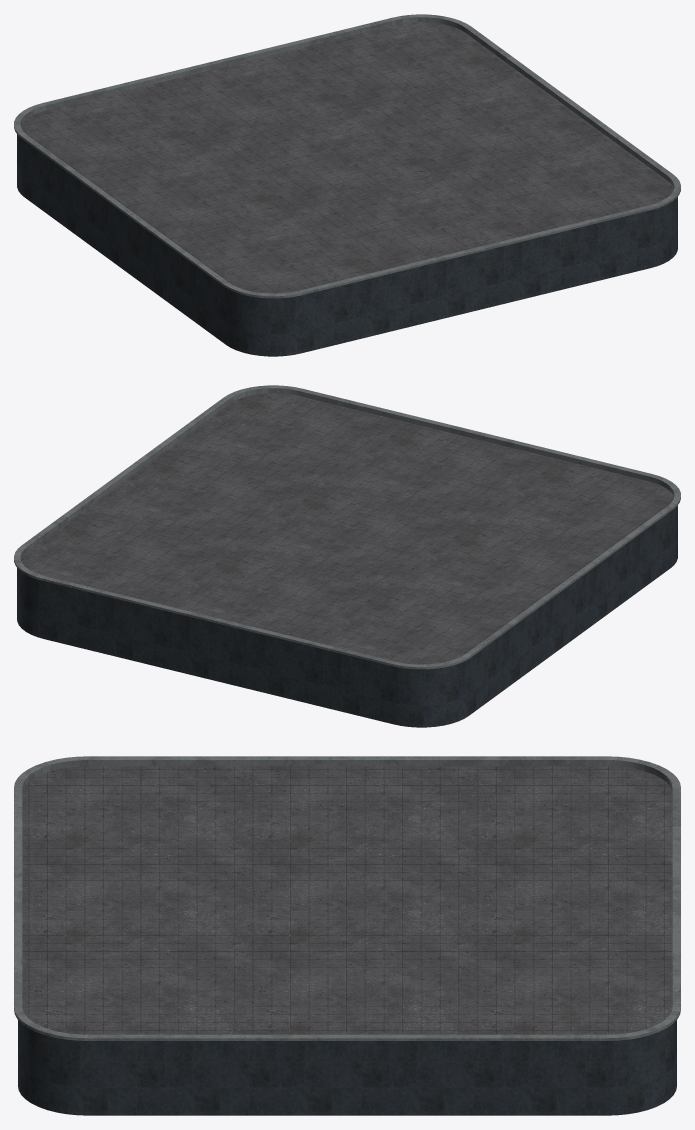
The model's file is jctBld24_E_top.fbx.
3 views of the same model, one above another, from view 1: azimuth 30°, elevation 25°; view 2: azimuth 150°, elevation 25°; view 3: azimuth 270°, elevation 25° (orthographic). The views are drawn at different scales.
Parts seen in each view (by area): view 1: jctBld24_E_top; view 2: jctBld24_E_top; view 3: jctBld24_E_top.
Part boxes in pixels (box(x1,y1,x2,y2)): jctBld24_E_top: box(14, 14, 680, 356); jctBld24_E_top: box(14, 385, 680, 727); jctBld24_E_top: box(14, 756, 680, 1115).
Bounding box in the file's own units: 2378 × 311 × 2378.
